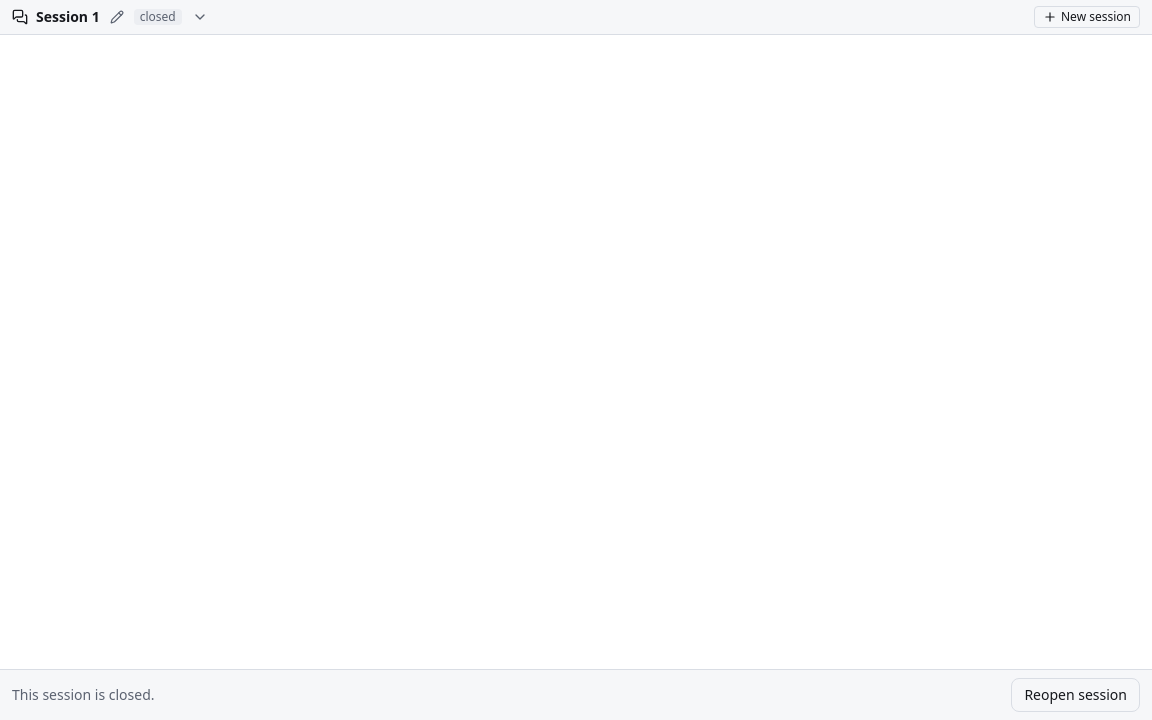
Test: ChatPanel with sessions › a refused reopen shows the error
What coordinates should you click on to do the following:
click the button "Reopen session"
I would click on:
 (1076, 695)
Its box is x1=1011 y1=678 x2=1140 y2=712.
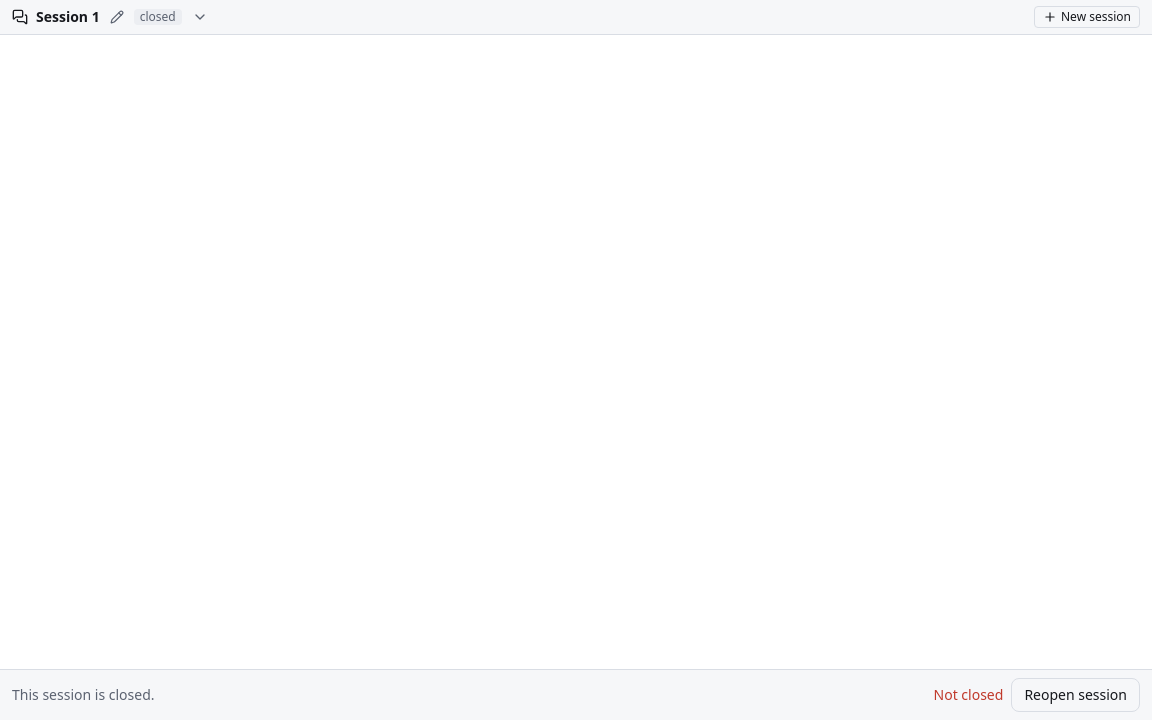
Now the message reads "Not closed", box x1=934 y1=685 x2=1003 y2=704
